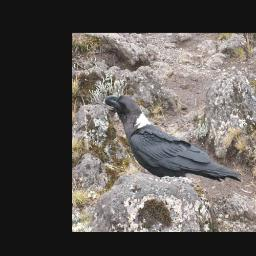Crow: (103, 95, 244, 184)
